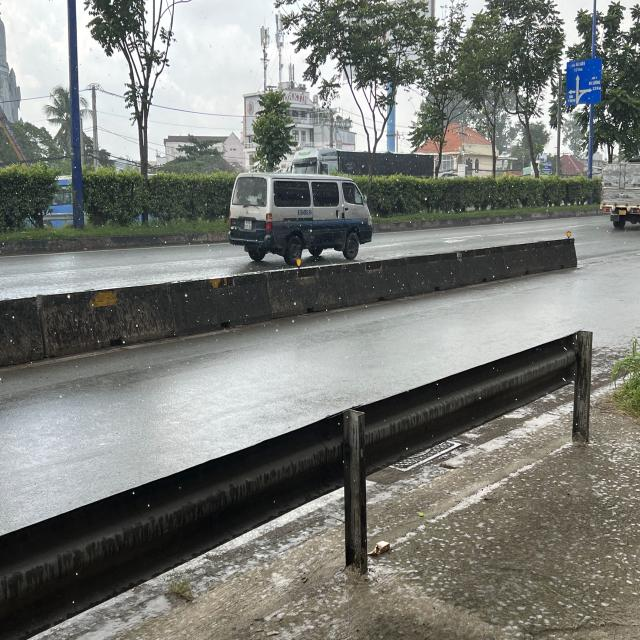truck: (600, 163, 640, 230)
van: (226, 172, 372, 268)
